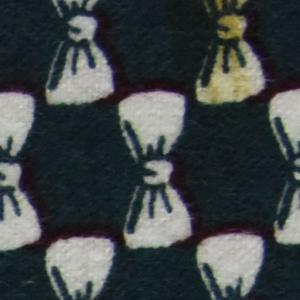Stain: (196, 1, 260, 109)
